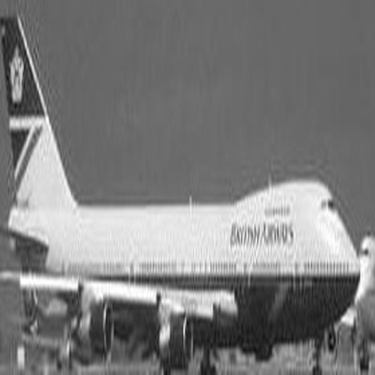airplane: (6, 1, 364, 342)
